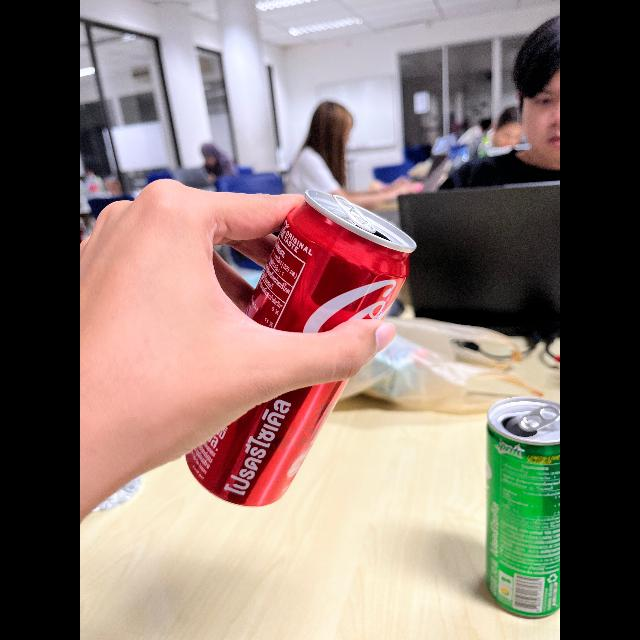can: (178, 180, 420, 510), (472, 388, 560, 622)
